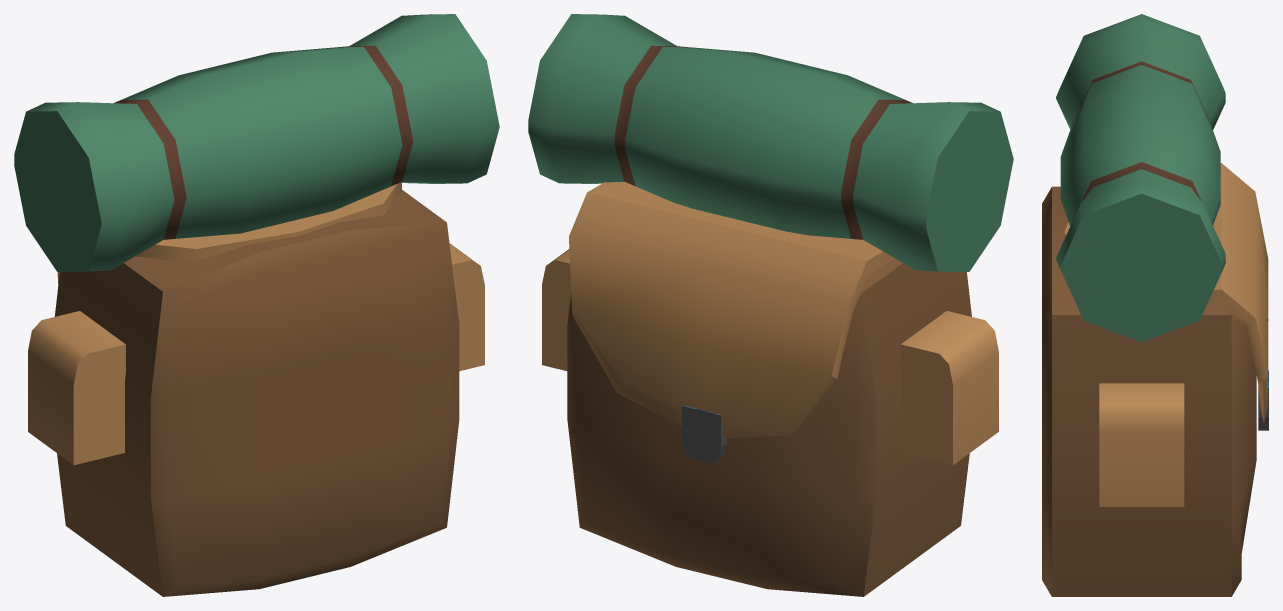
Rendered from backpack.fbx.
3 views of the same model, side by side, from view 1: azimuth 30°, elevation 25°; view 2: azimuth 150°, elevation 25°; view 3: azimuth 270°, elevation 25° (orthographic). The views are drawn at different scales.
Parts seen in each view (by area): view 1: backpack; view 2: backpack; view 3: backpack.
Part boxes in pixels (x1=…): backpack: x1=14, y1=14, x2=499, y2=596; backpack: x1=528, y1=14, x2=1013, y2=596; backpack: x1=1042, y1=14, x2=1268, y2=596.
Size of the model in its own units: 57.31 by 64.45 by 29.63.
